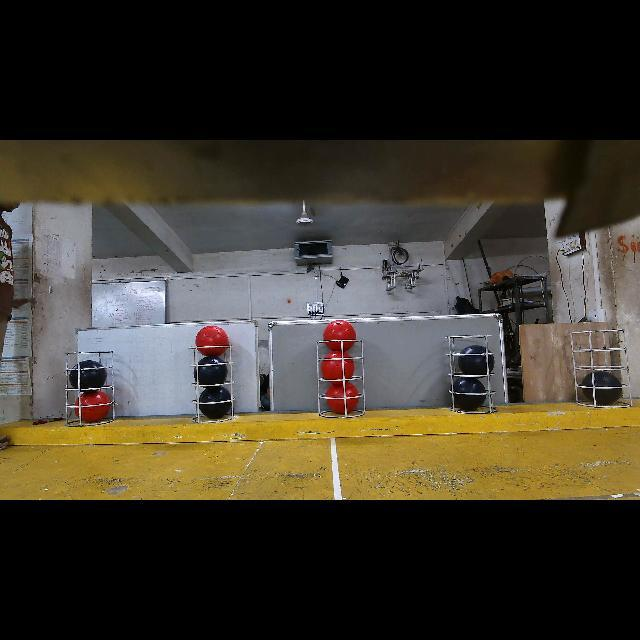P: (581, 370, 622, 405), (69, 360, 108, 389), (454, 378, 488, 411), (458, 345, 495, 375), (199, 386, 231, 419), (194, 355, 228, 385)
R: (74, 390, 111, 424), (326, 382, 359, 414), (195, 325, 229, 356), (321, 350, 355, 380), (324, 320, 356, 351)
S: (569, 329, 633, 406), (445, 335, 497, 415), (188, 345, 238, 425), (316, 341, 366, 419), (65, 352, 115, 426)
